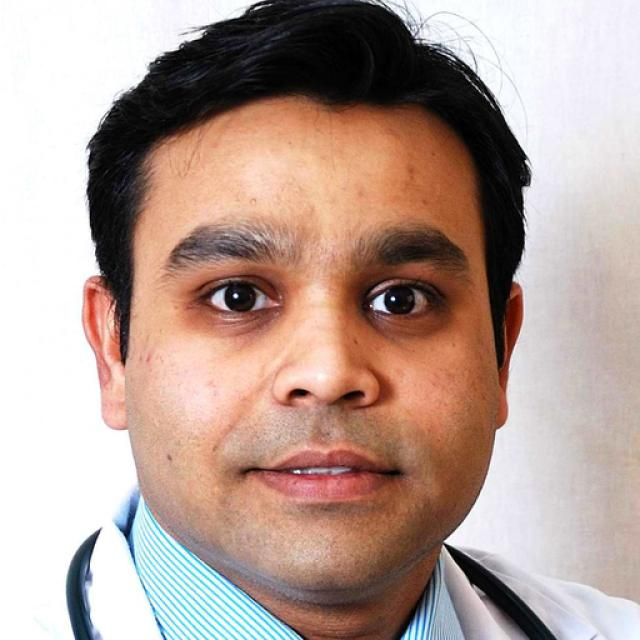Acne: (245, 193, 262, 208), (303, 203, 318, 217)
Dark Circle: (203, 307, 282, 335), (365, 312, 448, 337)
